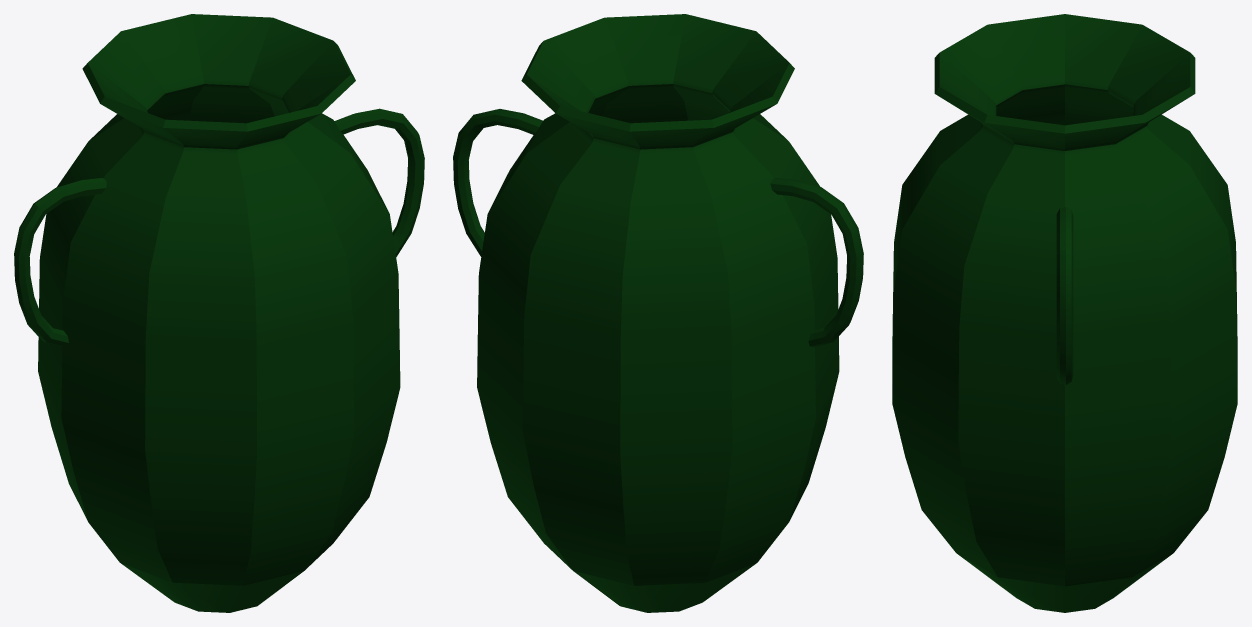
Rendered from Vase.fbx.
The picture shows the model from 3 angles, left to right: view 1: azimuth 30°, elevation 25°; view 2: azimuth 150°, elevation 25°; view 3: azimuth 270°, elevation 25°; orthographic projection.
Visible parts, largest first — view 1: Vase; view 2: Vase; view 3: Vase.
Part boxes in pixels (<box>): Vase: <box>14,14,424,612</box>; Vase: <box>453,14,863,612</box>; Vase: <box>892,14,1237,612</box>.
Size of the model in its own units: 92.07 by 113 by 67.55.
